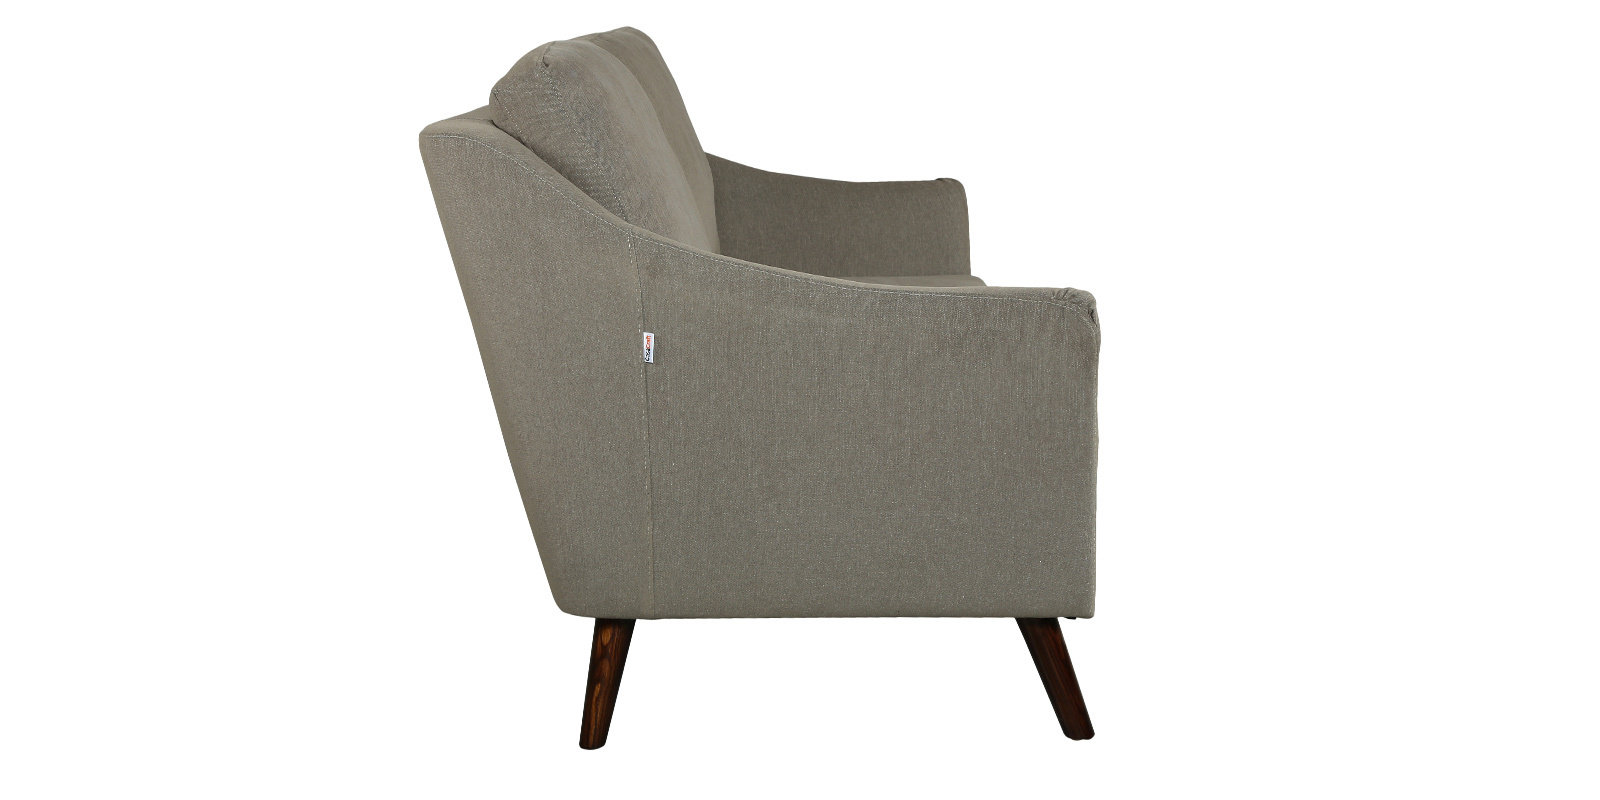Juan Three Seater Sofs in Sandy Brown Colour by CasaCraft: (413, 18, 1108, 746)
